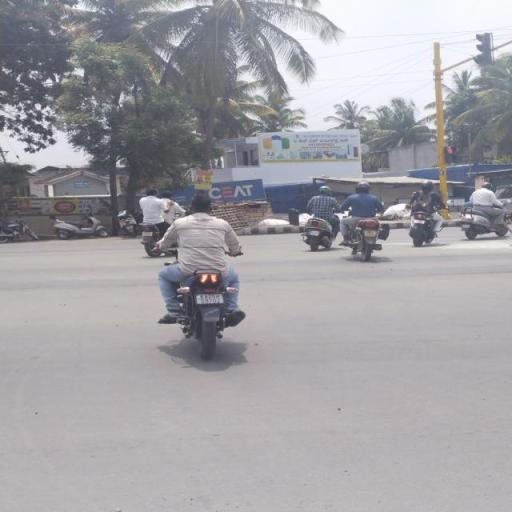bike: (144, 191, 263, 360)
numberplate: (196, 291, 224, 305)
withouthelmet: (192, 195, 210, 213)
